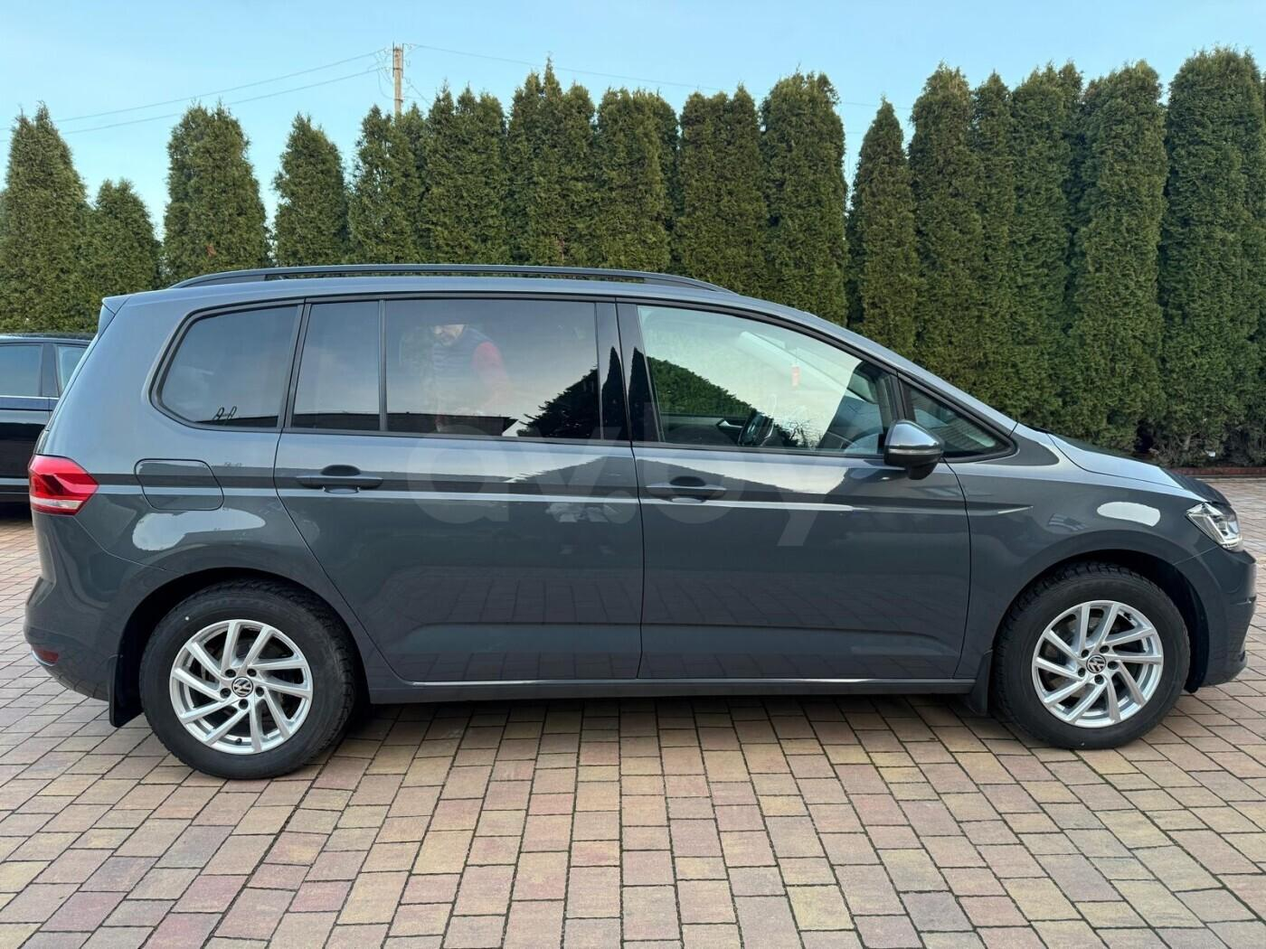Touran_2015: (17, 271, 1263, 779)
